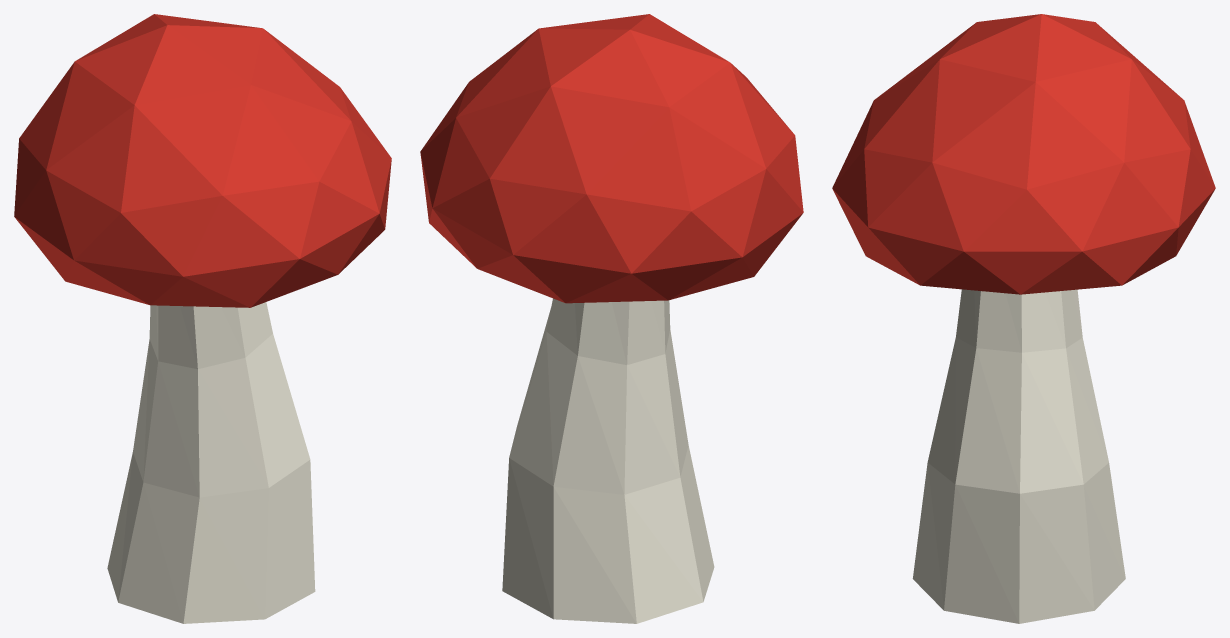
The model's file is mushroom_03.glb.
The picture shows the model from 3 angles, left to right: view 1: azimuth 30°, elevation 25°; view 2: azimuth 150°, elevation 25°; view 3: azimuth 270°, elevation 25°; orthographic projection. The views are drawn at different scales.
Visible parts, largest first — view 1: Object_122, Object_123; view 2: Object_122, Object_123; view 3: Object_122, Object_123.
Boxes of the visible parts, box(x1,y1,x2,y2) form: Object_122: box(14, 14, 391, 307); Object_123: box(107, 302, 315, 623); Object_122: box(420, 14, 803, 303); Object_123: box(502, 298, 714, 623); Object_122: box(832, 14, 1215, 294); Object_123: box(912, 289, 1125, 623).
Size of the model in its own units: 0.7323 by 1.23 by 0.7757.
